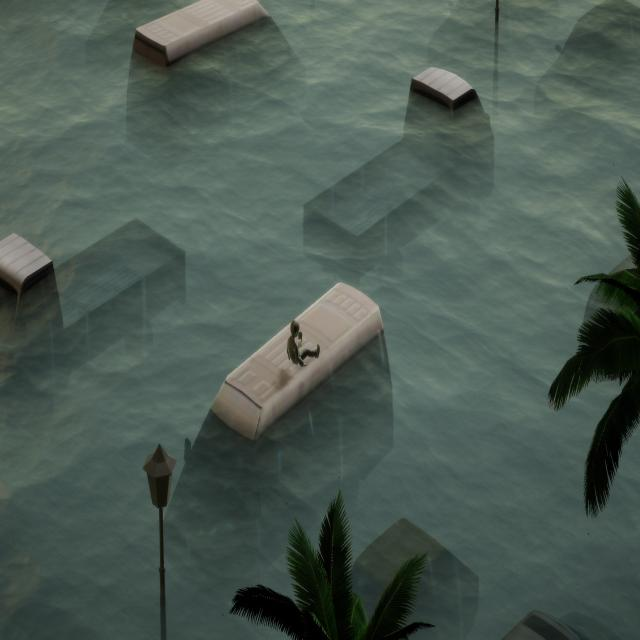Human: (278, 310, 324, 370)
